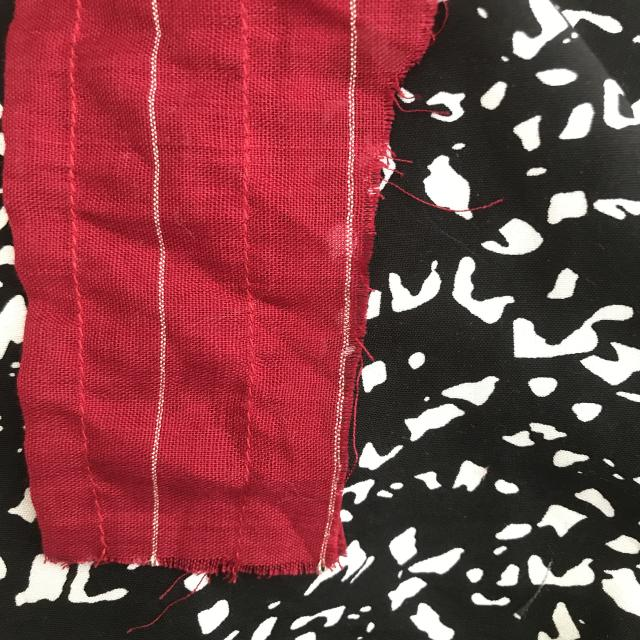good: (49, 107, 97, 412)
